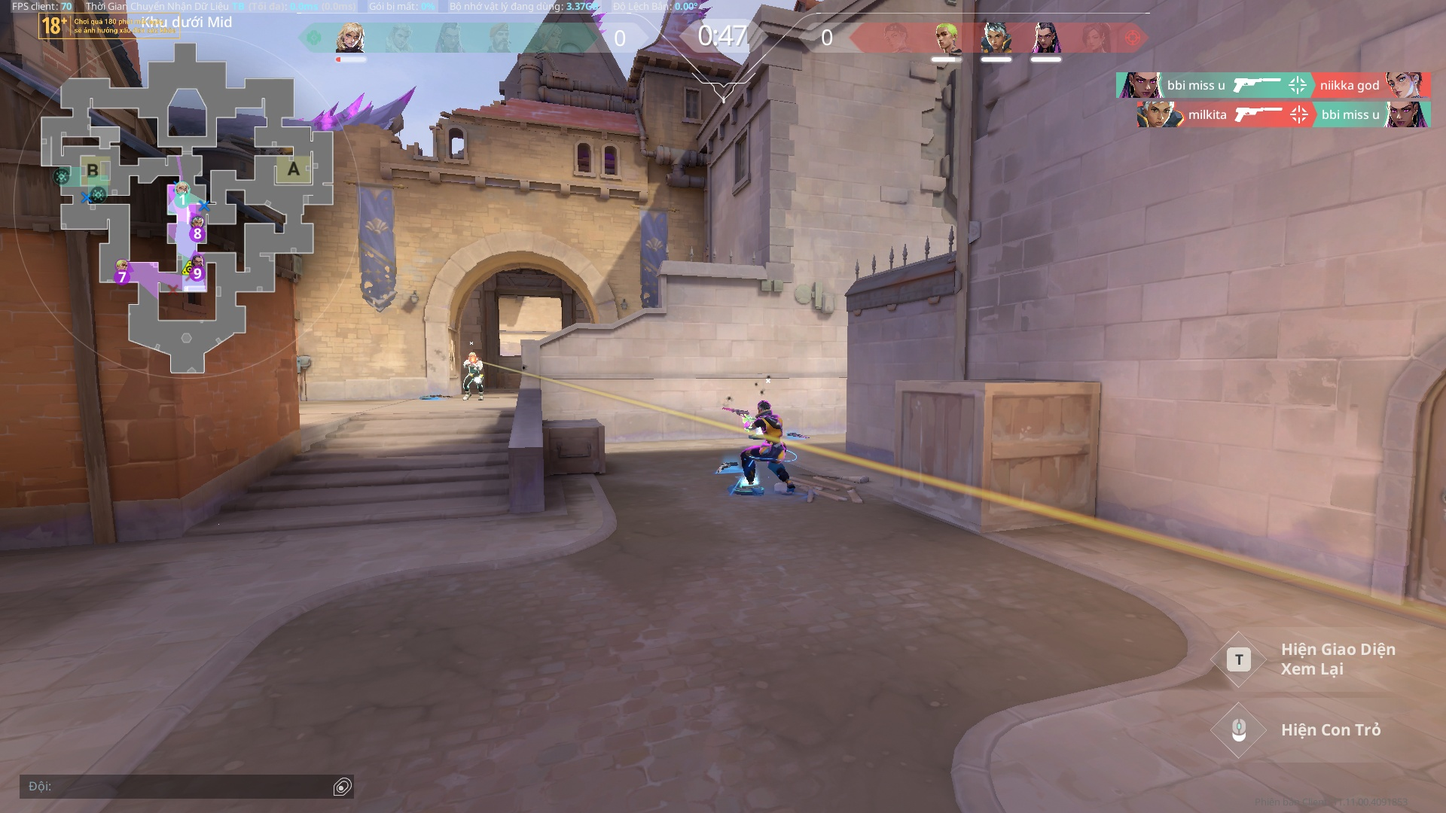body: (755, 411, 790, 449)
head: (755, 401, 770, 416)
